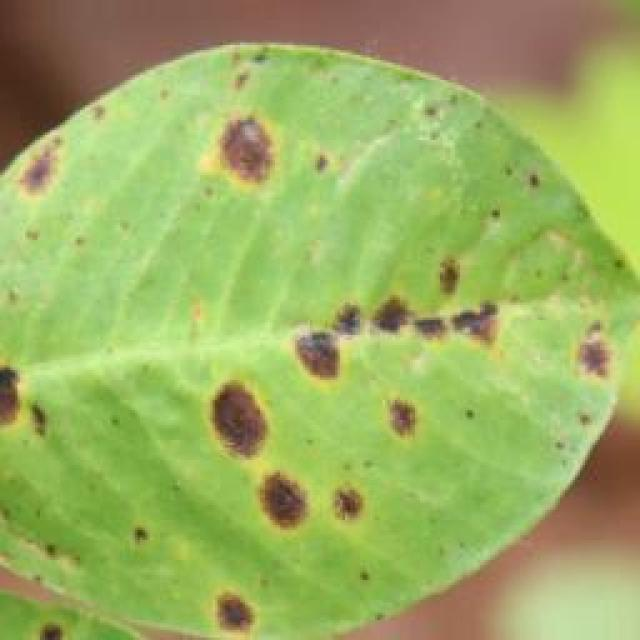Yellowish: (0, 35, 632, 640)
